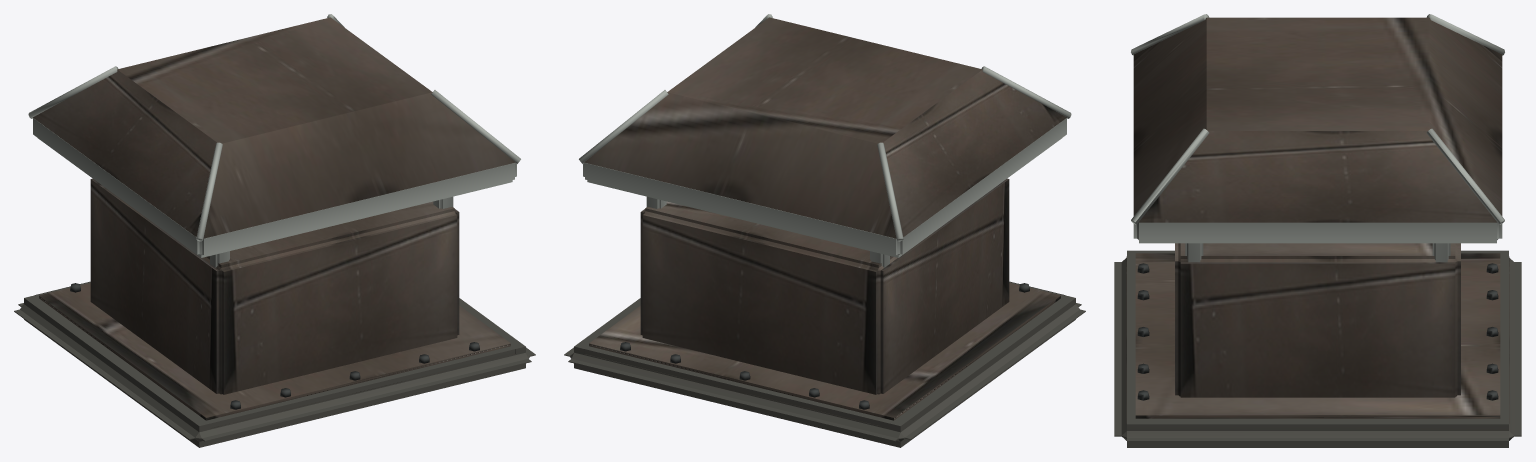
File: galvanized-roof-vent.glb
3 renders of one model, left to right at view 1: azimuth 30°, elevation 25°; view 2: azimuth 150°, elevation 25°; view 3: azimuth 270°, elevation 25°, orthographic. The views are drawn at different scales.
Visible parts, largest first — view 1: Frame; view 2: Frame; view 3: Frame.
Boxes of the visible parts, x1=… form: Frame: x1=14, y1=14, x2=535, y2=447; Frame: x1=564, y1=14, x2=1085, y2=447; Frame: x1=1114, y1=14, x2=1521, y2=447.
Bounding box in the file's own units: 0.9 × 0.6594 × 0.84.
Materials: 4 (1 with a texture image).
